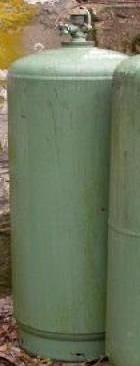cylinder: (1, 1, 140, 366)
